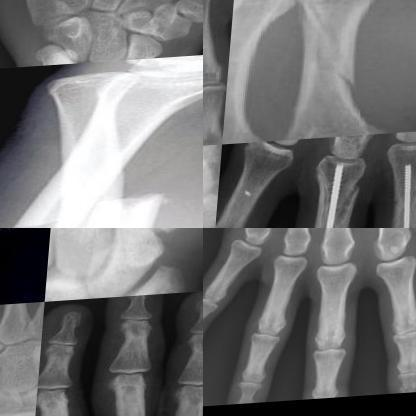fracture: (309, 162, 370, 227), (393, 154, 415, 227), (398, 381, 415, 399)
